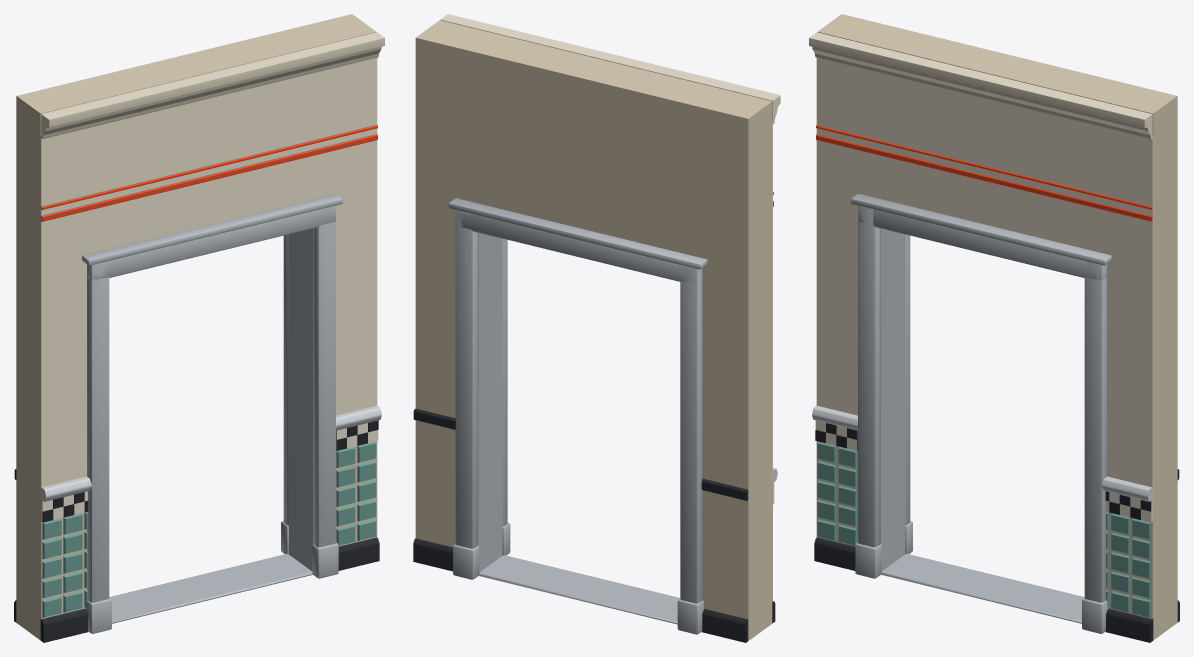
The model's file is Shop_WallDoorway.fbx.
3 views of the same model, side by side, from view 1: azimuth 30°, elevation 25°; view 2: azimuth 150°, elevation 25°; view 3: azimuth 330°, elevation 25° (orthographic).
Parts seen in each view (by area): view 1: Upper, Frame, Core, Tiles, Threshold, Stripe, Grout, Baseboard, ChairRail, CheckerDark, CheckerLight; view 2: Core, Frame, Threshold, Upper, BackBase, BackBand; view 3: Upper, Frame, Core, Tiles, Threshold, Stripe, Grout, Baseboard, ChairRail, CheckerDark, CheckerLight.
Part boxes in pixels (x1,y1,x2,y2): Upper: (40, 32, 384, 499); Frame: (82, 193, 342, 633); Core: (16, 14, 376, 640); Tiles: (42, 441, 376, 617); Threshold: (109, 554, 312, 623); Stripe: (41, 125, 377, 221); Grout: (40, 441, 377, 619); Baseboard: (40, 537, 379, 642); ChairRail: (41, 405, 381, 501); CheckerDark: (42, 420, 378, 522); CheckerLight: (41, 423, 378, 522); Core: (415, 20, 772, 640); Frame: (448, 198, 707, 634); Threshold: (478, 555, 680, 624); Upper: (440, 14, 780, 483); BackBase: (413, 538, 748, 642); BackBand: (413, 408, 748, 500); Upper: (809, 32, 1153, 499); Frame: (851, 193, 1111, 633); Core: (817, 14, 1177, 640); Tiles: (817, 441, 1151, 617); Threshold: (881, 554, 1084, 623); Stripe: (816, 125, 1152, 221); Grout: (816, 441, 1153, 619); Baseboard: (814, 537, 1153, 642); ChairRail: (812, 405, 1152, 501); CheckerDark: (815, 423, 1151, 519); CheckerLight: (815, 420, 1152, 522).
Bounding box in the file's own units: 800 × 1200 × 167.
